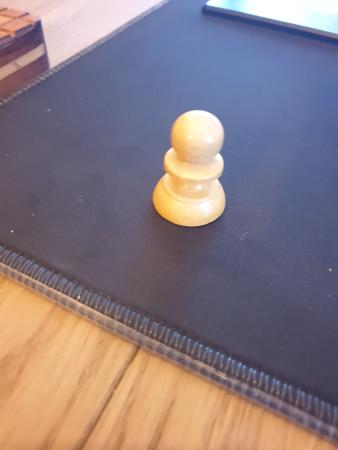wpawn: (151, 109, 226, 228)
